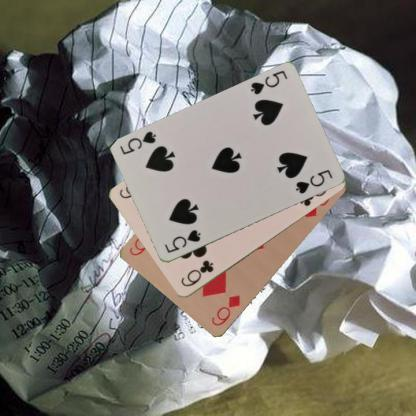5s: (247, 68, 289, 97), (162, 227, 202, 255)
6c: (178, 258, 215, 288)
6d: (208, 291, 242, 328)
